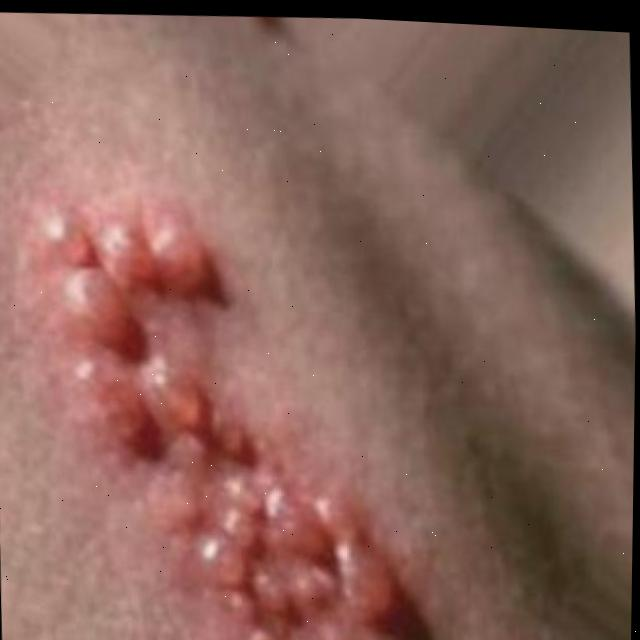Shingles: (35, 189, 417, 640)
